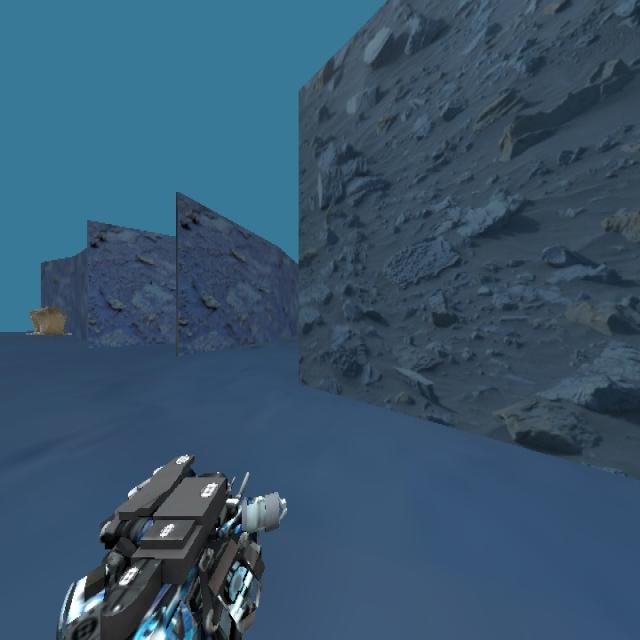Alien: (56, 451, 288, 637)
Ice: (28, 304, 66, 335)
